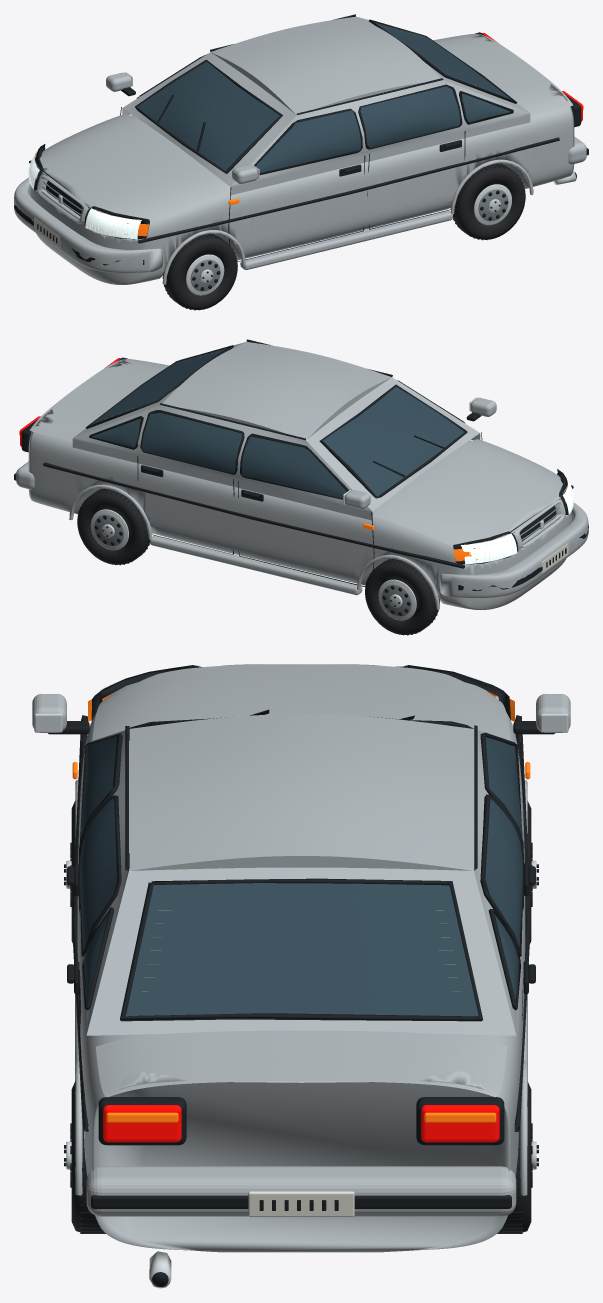
File: ten.glb
The picture shows the model from 3 angles, top to bottom: view 1: azimuth 30°, elevation 25°; view 2: azimuth 150°, elevation 25°; view 3: azimuth 270°, elevation 25°; orthographic projection. The views are drawn at different scales.
Parts seen in each view (by area): view 1: Body_Paint_ten, Body_Curved smoked glass.006, Body_Black trim.006, StockBumpers_Paint_ten, Wheel_FR_Tyre.006, Wheel_RR_Tyre.006, StockSkirts_Paint_ten, Body_Prismatic headlight glass.006, StockFenders_Paint_ten, Wheel_FR_Machined aluminium.006, Wheel_RR_Machined aluminium.006, Wheel_RR_Brake steel.006 (+2 smaller); view 2: Body_Paint_ten, Body_Curved smoked glass.006, Body_Black trim.006, StockBumpers_Paint_ten, Wheel_FL_Tyre.006, Wheel_RL_Tyre.006, StockSkirts_Paint_ten, Body_Prismatic headlight glass.006, StockFenders_Paint_ten, Wheel_RL_Machined aluminium.006, Wheel_FL_Machined aluminium.006, Wheel_RL_Brake steel.006 (+4 smaller); view 3: Body_Paint_ten, Body_Curved smoked glass.006, Body_Black trim.006, StockBumpers_Paint_ten, Body_Red lens.006, StockBumpers_Black trim.006, Body_Numberplate.006, StockFenders_Paint_ten, Body_Amber lens.006, Body_Machined aluminium.006, Wheel_RL_Tyre.006, Wheel_RR_Tyre.006.
Boxes of the visible parts, left/top/right/bottom form: Body_Paint_ten: left=30, top=16, right=574, bottom=284; Body_Curved smoked glass.006: left=137, top=22, right=510, bottom=172; Body_Black trim.006: left=29, top=14, right=581, bottom=243; StockBumpers_Paint_ten: left=14, top=136, right=586, bottom=272; Wheel_FR_Tyre.006: left=162, top=234, right=237, bottom=309; Wheel_RR_Tyre.006: left=450, top=163, right=525, bottom=239; StockSkirts_Paint_ten: left=240, top=210, right=452, bottom=269; Body_Prismatic headlight glass.006: left=28, top=147, right=141, bottom=239; StockFenders_Paint_ten: left=162, top=159, right=533, bottom=284; Wheel_FR_Machined aluminium.006: left=186, top=254, right=224, bottom=295; Wheel_RR_Machined aluminium.006: left=474, top=184, right=511, bottom=225; Wheel_RR_Brake steel.006: left=478, top=189, right=508, bottom=221; Body_Paint_ten: left=28, top=342, right=571, bottom=609; Body_Curved smoked glass.006: left=91, top=347, right=464, bottom=497; Body_Black trim.006: left=21, top=339, right=573, bottom=568; StockBumpers_Paint_ten: left=16, top=461, right=588, bottom=598; Wheel_FL_Tyre.006: left=365, top=558, right=439, bottom=634; Wheel_RL_Tyre.006: left=77, top=488, right=152, bottom=564; StockSkirts_Paint_ten: left=150, top=535, right=362, bottom=595; Body_Prismatic headlight glass.006: left=461, top=472, right=573, bottom=564; StockFenders_Paint_ten: left=69, top=484, right=439, bottom=609; Wheel_RL_Machined aluminium.006: left=90, top=509, right=128, bottom=550; Wheel_FL_Machined aluminium.006: left=378, top=579, right=416, bottom=620; Wheel_RL_Brake steel.006: left=94, top=514, right=124, bottom=546; Body_Paint_ten: left=32, top=664, right=570, bottom=1252; Body_Curved smoked glass.006: left=80, top=716, right=522, bottom=1016; Body_Black trim.006: left=48, top=665, right=554, bottom=1286; StockBumpers_Paint_ten: left=86, top=1166, right=516, bottom=1216; Body_Red lens.006: left=103, top=1105, right=499, bottom=1142; StockBumpers_Black trim.006: left=91, top=1195, right=511, bottom=1208; Body_Numberplate.006: left=248, top=1191, right=354, bottom=1217; StockFenders_Paint_ten: left=75, top=779, right=527, bottom=1195; Body_Amber lens.006: left=72, top=691, right=530, bottom=1122; Body_Machined aluminium.006: left=34, top=713, right=568, bottom=1288; Wheel_RL_Tyre.006: left=498, top=1082, right=531, bottom=1232; Wheel_RR_Tyre.006: left=71, top=1081, right=104, bottom=1232.
Size of the model in its own units: 4.27 by 1.42 by 2.02.
